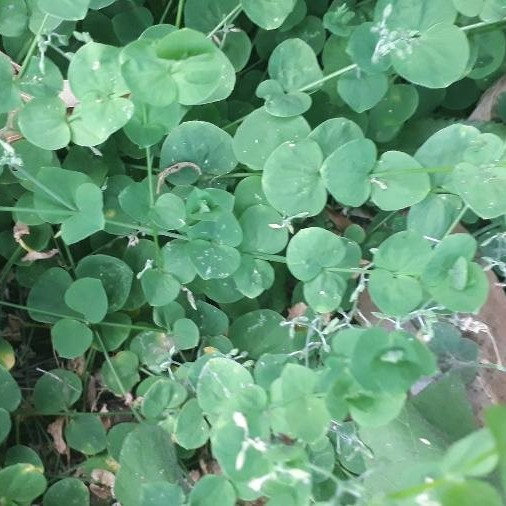obstacle: (66, 46, 459, 489)
